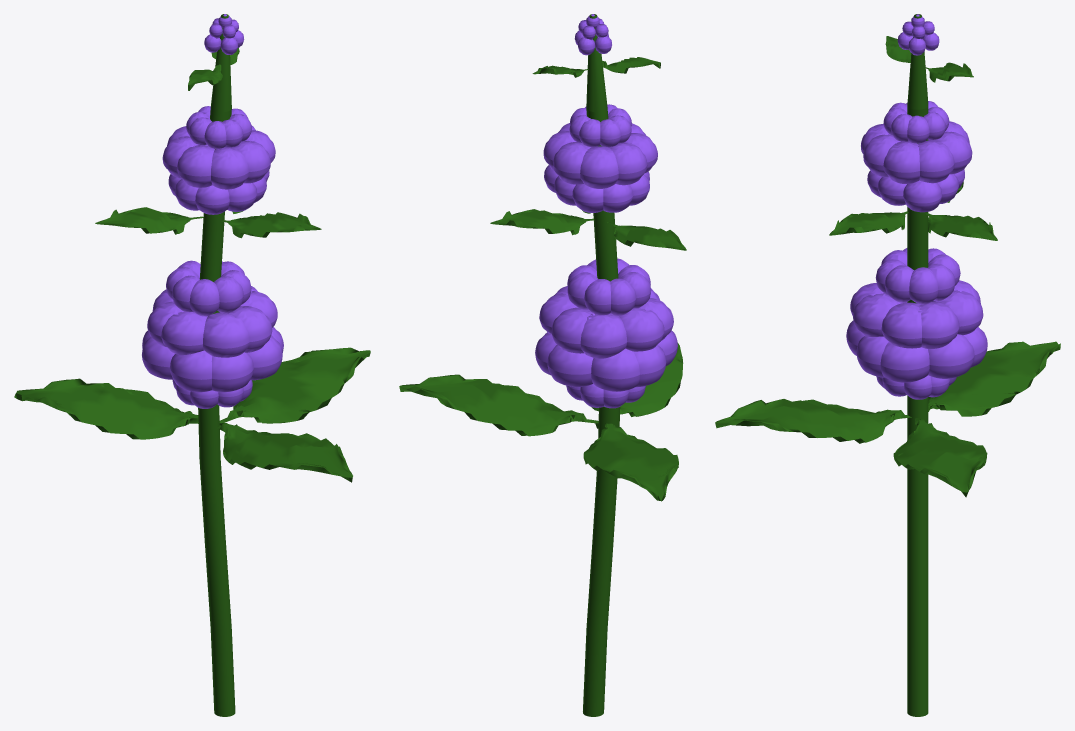
3 renders of one model, left to right at view 1: azimuth 30°, elevation 25°; view 2: azimuth 150°, elevation 25°; view 3: azimuth 270°, elevation 25°, orthographic.
Visible parts, largest first — view 1: f24; view 2: f24; view 3: f24.
Boxes of the visible parts, <box> form: f24: <box>14,14,370,716</box>; f24: <box>399,14,686,716</box>; f24: <box>715,14,1060,716</box>.
Size of the model in its own units: 0.516 by 1.11 by 0.499.
